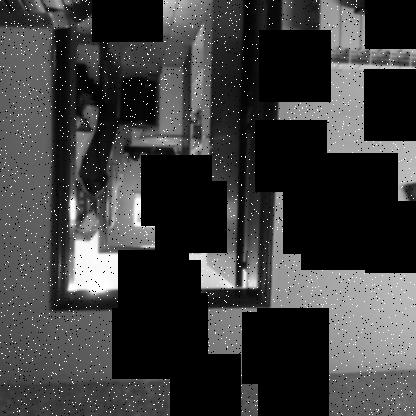Porte: (45, 1, 288, 315)
